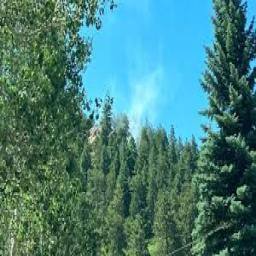Low smoke: (78, 50, 173, 163)
